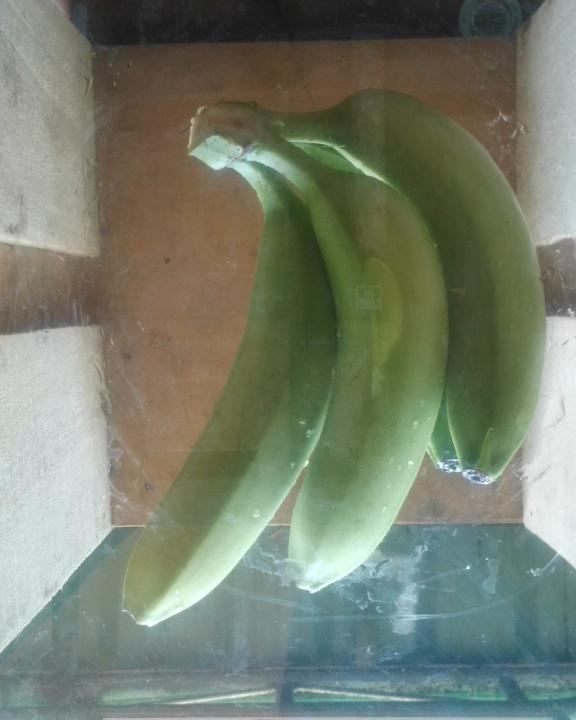SPOT: (114, 79, 553, 637)
